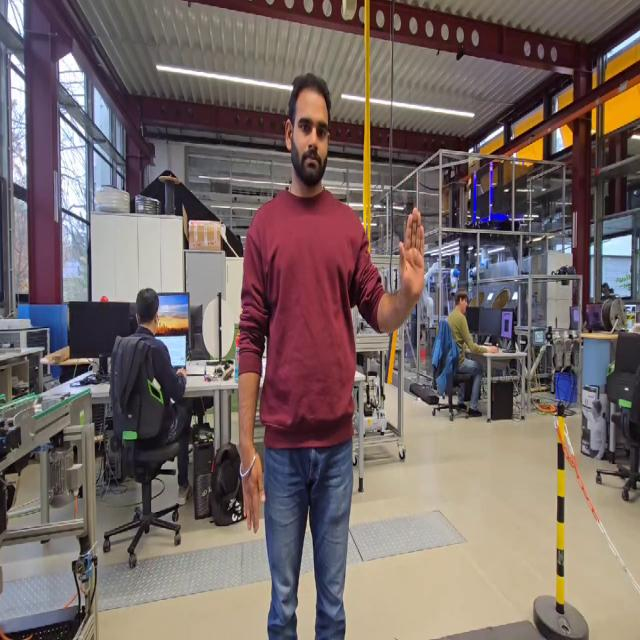open_palm: (394, 204, 429, 316)
